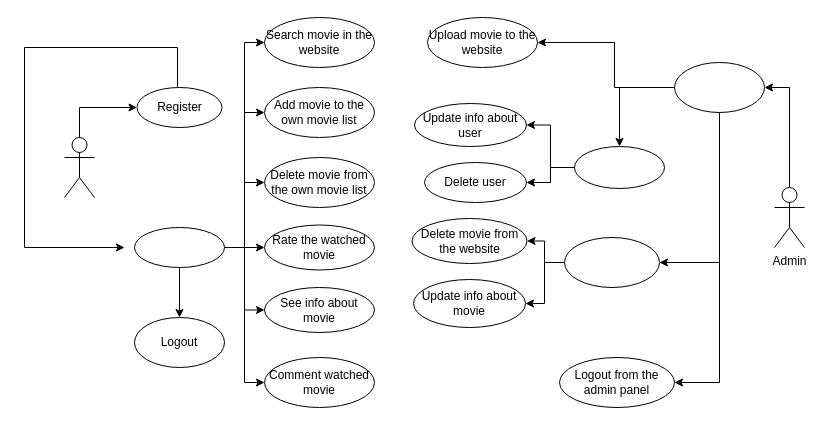
The diagram is 824 pixels wide and 425 high, and some of its shapes have lost their labels. The shapes that lost their labels are listed below. From the top down, each one's centre as x and y in pixels, then its label:
At [719,87]: "Login to the admin panel".
At [79,167]: "User".
At [619,167]: "Manage user".
At [179,247]: "Login".
At [612,262]: "Manage movies".
